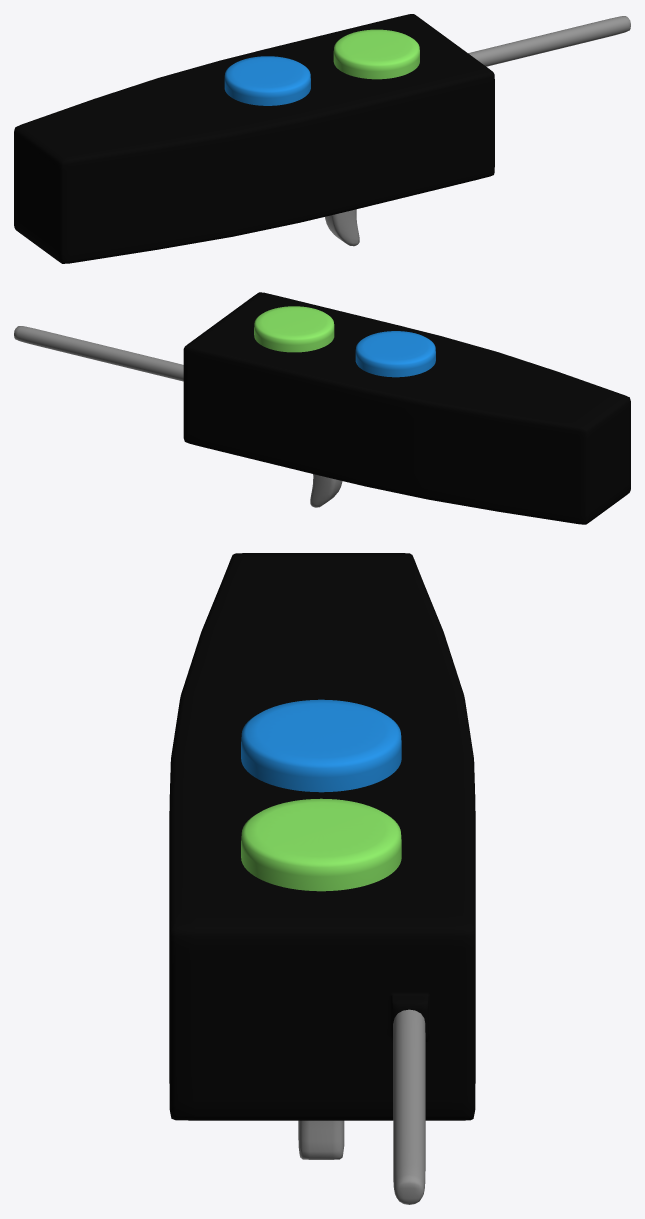
Rendered from detonatorV2.fbx.
The picture shows the model from 3 angles, top to bottom: view 1: azimuth 30°, elevation 25°; view 2: azimuth 150°, elevation 25°; view 3: azimuth 270°, elevation 25°; orthographic projection. The views are drawn at different scales.
Parts seen in each view (by area): view 1: Controller, LowButton, TopButton, Antenna, Trigger; view 2: Controller, TopButton, LowButton, Antenna, Trigger; view 3: Controller, LowButton, TopButton, Antenna, Trigger.
Boxes of the visible parts, x1,y1,x2,y2 form: Controller: [14, 14, 494, 263]; LowButton: [224, 56, 310, 105]; TopButton: [333, 29, 419, 79]; Antenna: [468, 16, 630, 66]; Trigger: [325, 209, 359, 246]; Controller: [183, 292, 630, 524]; TopButton: [254, 306, 334, 352]; LowButton: [355, 331, 435, 377]; Antenna: [14, 326, 183, 381]; Trigger: [310, 474, 342, 507]; Controller: [169, 553, 475, 1120]; LowButton: [241, 699, 401, 792]; TopButton: [241, 798, 401, 891]; Antenna: [393, 1009, 425, 1204]; Trigger: [298, 1120, 344, 1159].
Bounding box in the file's own units: 21.56 × 6.37 × 5.
